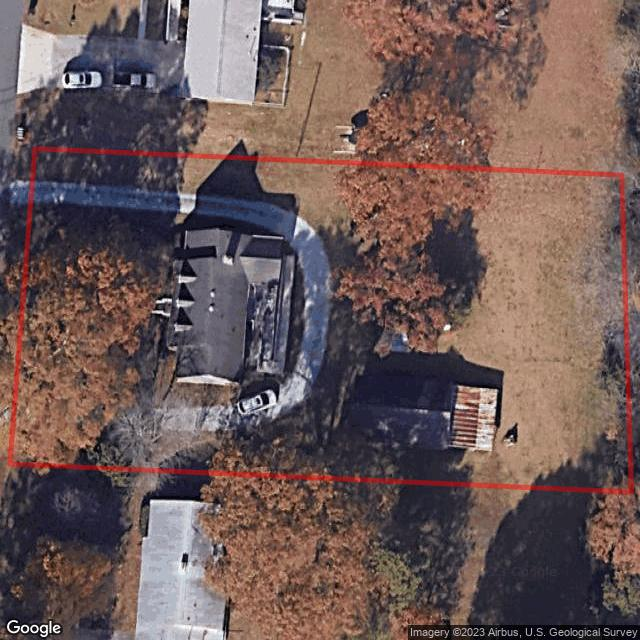Driveway: (35, 181, 330, 430)
House: (165, 226, 296, 389)
Other: (344, 372, 501, 451)
